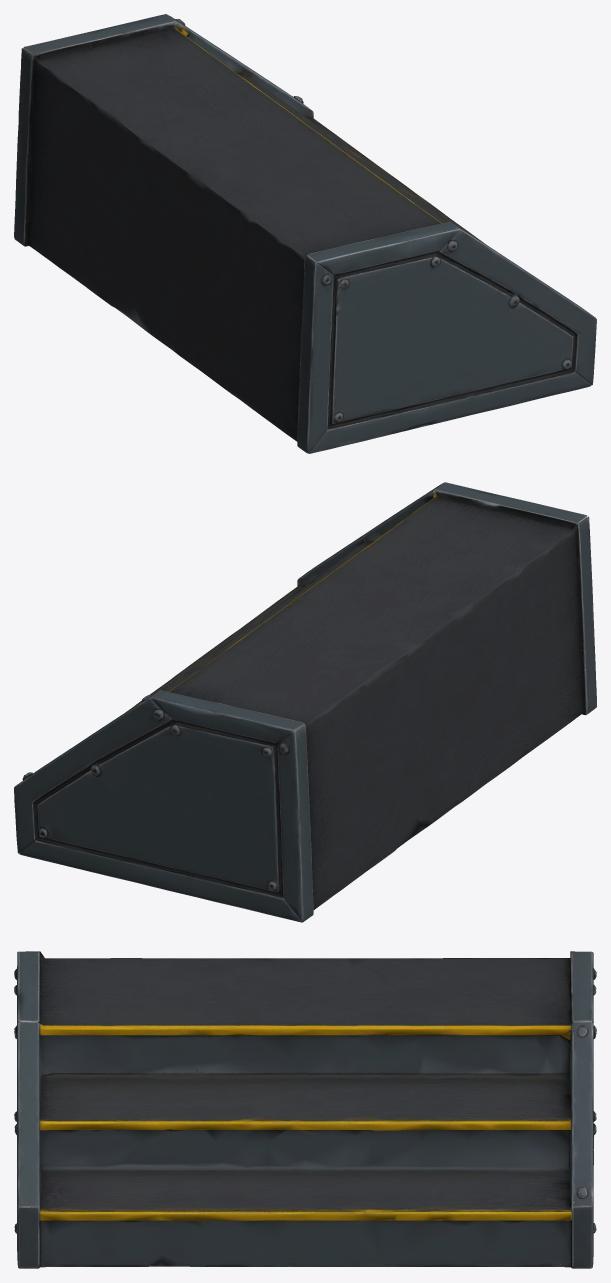
The model's file is steps.glb.
3 views of the same model, one above another, from view 1: azimuth 30°, elevation 25°; view 2: azimuth 150°, elevation 25°; view 3: azimuth 270°, elevation 25° (orthographic). The views are drawn at different scales.
Visible parts, largest first — view 1: tripo_node_f6eb5847-816f-4224-b33d-0629d46f0fcb; view 2: tripo_node_f6eb5847-816f-4224-b33d-0629d46f0fcb; view 3: tripo_node_f6eb5847-816f-4224-b33d-0629d46f0fcb.
Part boxes in pixels (box(x1,y1,x2,y2)): tripo_node_f6eb5847-816f-4224-b33d-0629d46f0fcb: box(14, 14, 596, 453); tripo_node_f6eb5847-816f-4224-b33d-0629d46f0fcb: box(14, 482, 596, 922); tripo_node_f6eb5847-816f-4224-b33d-0629d46f0fcb: box(14, 951, 596, 1268).
Bounding box in the file's own units: 0.549 × 0.3468 × 0.9789.
1 material, 1 textured.
